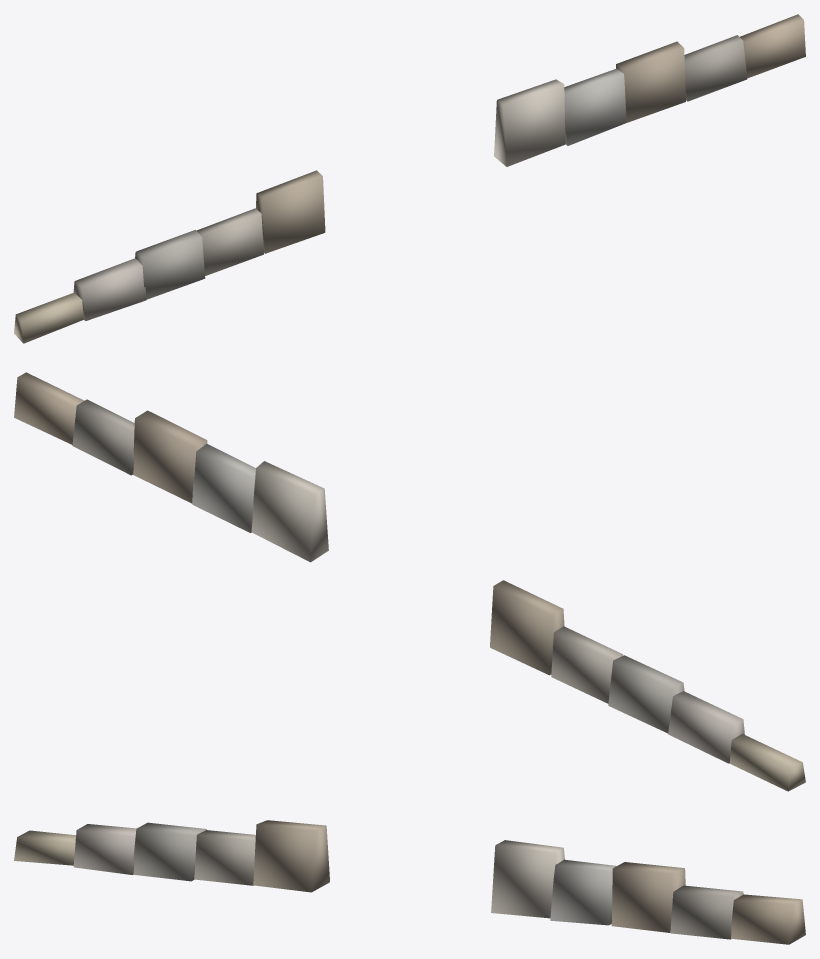
Rendered from farm_-9_-7_far.glb.
The picture shows the model from 3 angles, top to bottom: view 1: azimuth 30°, elevation 25°; view 2: azimuth 150°, elevation 25°; view 3: azimuth 330°, elevation 25°; orthographic projection. The views are drawn at different scales.
Visible parts, largest first — view 1: geometry_0; view 2: geometry_0; view 3: geometry_0.
Part boxes in pixels (bbox=[...]): geometry_0: bbox=[14, 14, 805, 343]; geometry_0: bbox=[14, 372, 805, 791]; geometry_0: bbox=[14, 820, 805, 944].
Bounding box in the file's own units: 20.29 × 4.34 × 2.36.
